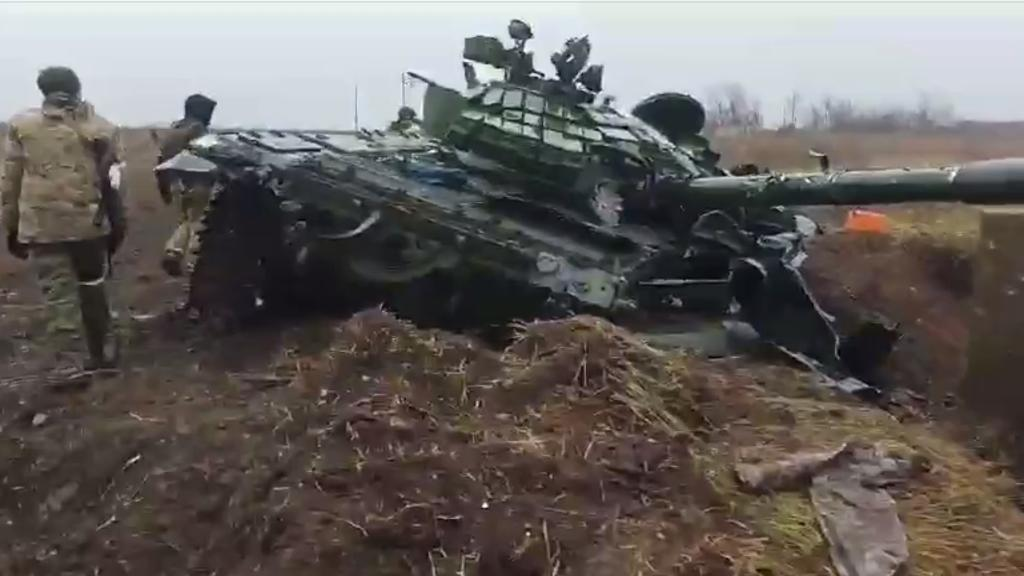TANK: (150, 19, 1022, 394)
